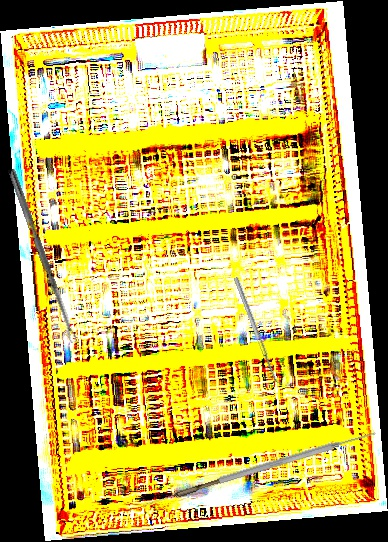Pusher: (218, 428, 377, 486)
Spatula Surgical: (233, 275, 284, 387)
Surgical Spoon: (6, 168, 78, 344), (142, 461, 271, 510)
